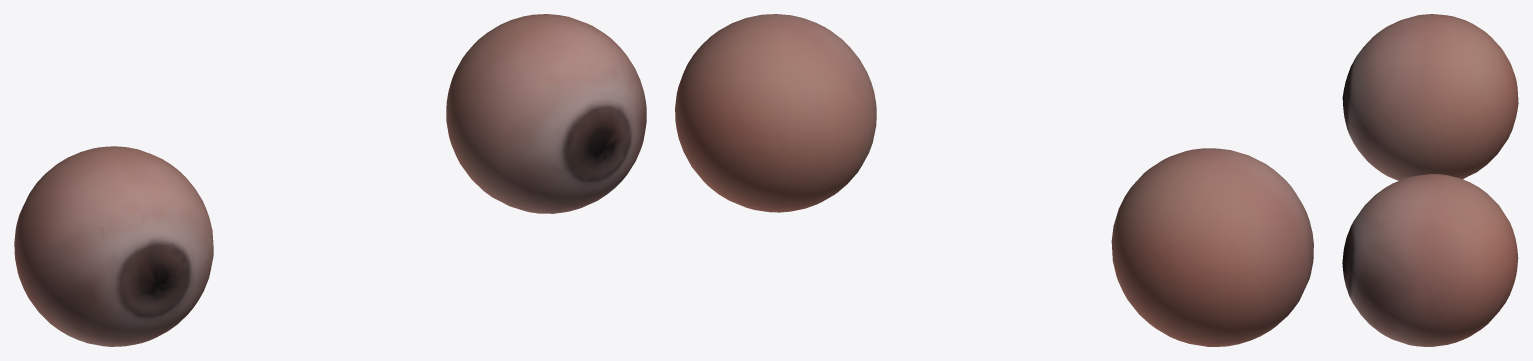
3 views of the same model, side by side, from view 1: azimuth 30°, elevation 25°; view 2: azimuth 150°, elevation 25°; view 3: azimuth 270°, elevation 25° (orthographic). The views are drawn at different scales.
Visible parts, largest first — view 1: Eyes; view 2: Eyes; view 3: Eyes.
Boxes of the visible parts, box(x1,y1,x2,y2) form: Eyes: box(14, 14, 646, 346); Eyes: box(675, 14, 1313, 346); Eyes: box(1342, 14, 1518, 346).
Size of the model in its own units: 0.1059 by 0.0345 by 0.0306.
